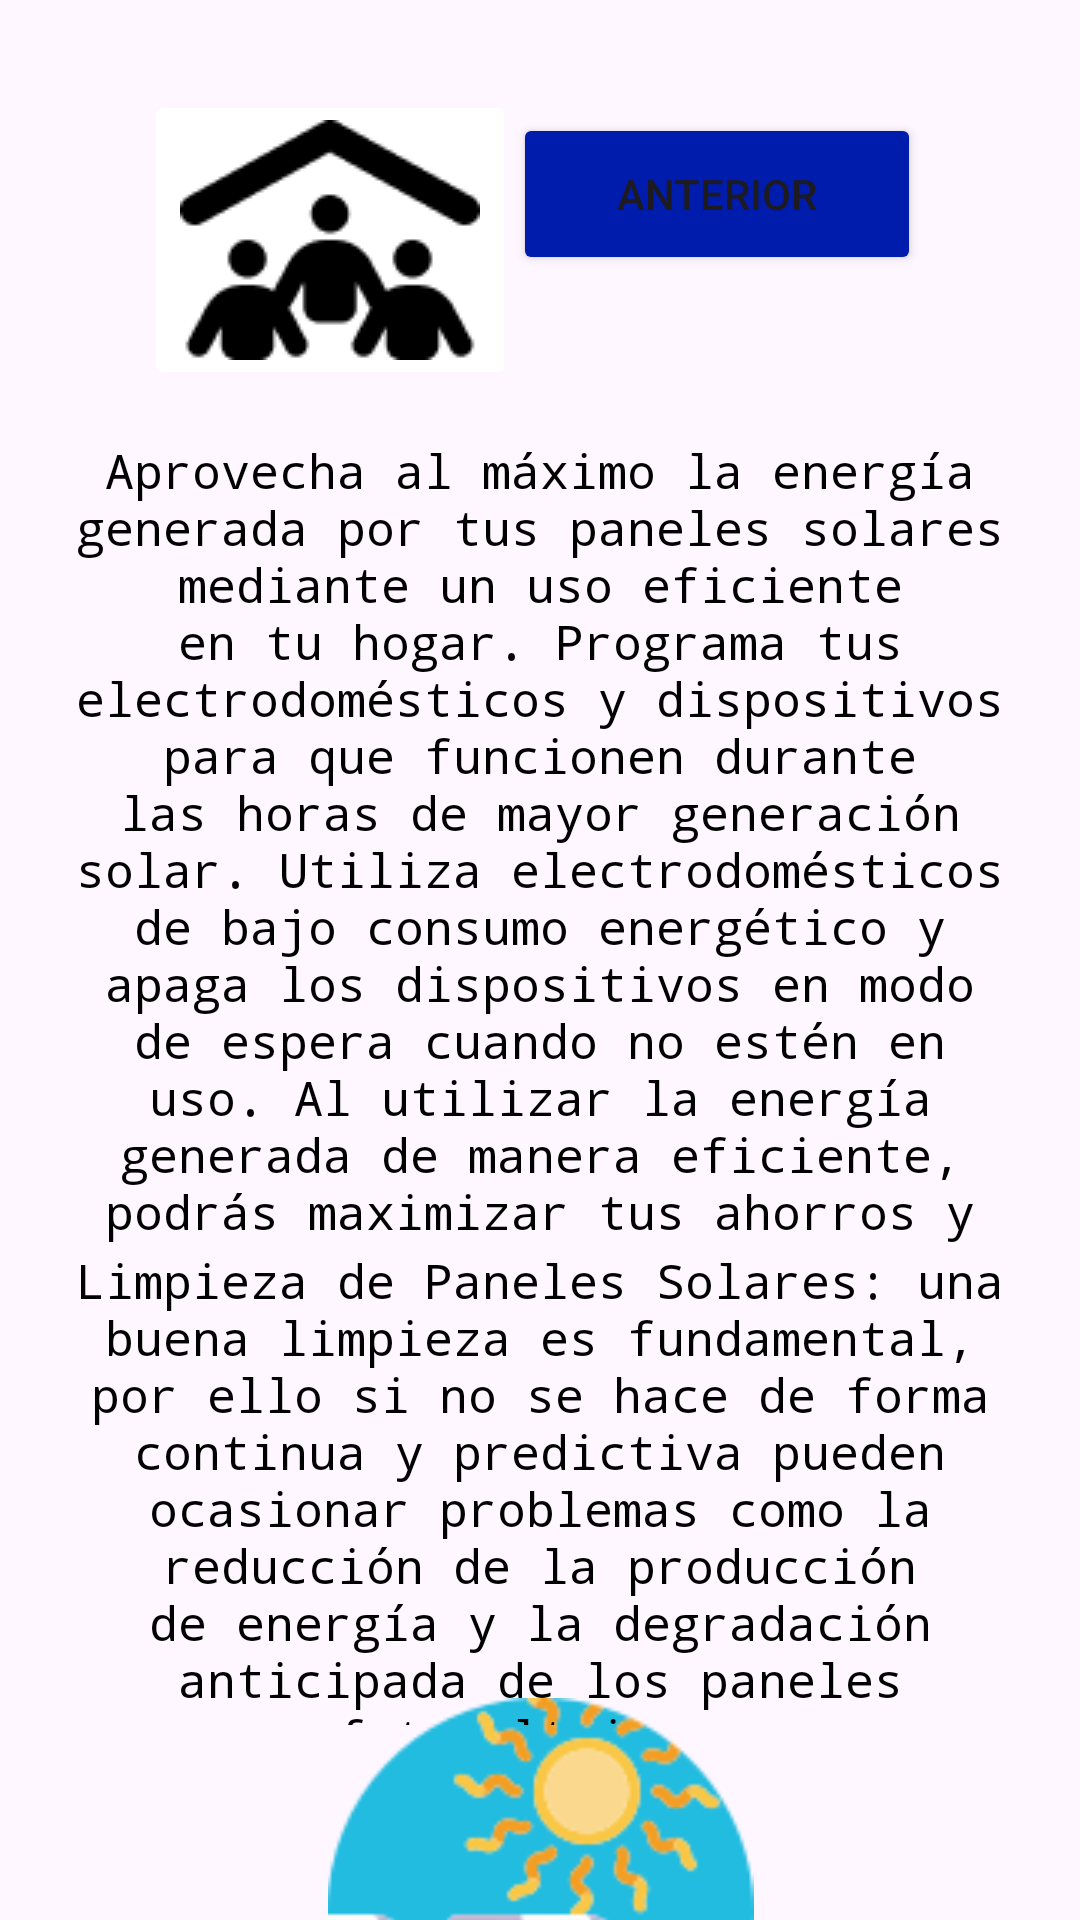

Where icons sit on this 1080×1920 app screen, as (x1, y1, x2, y2):
home: (180, 120, 480, 360)
